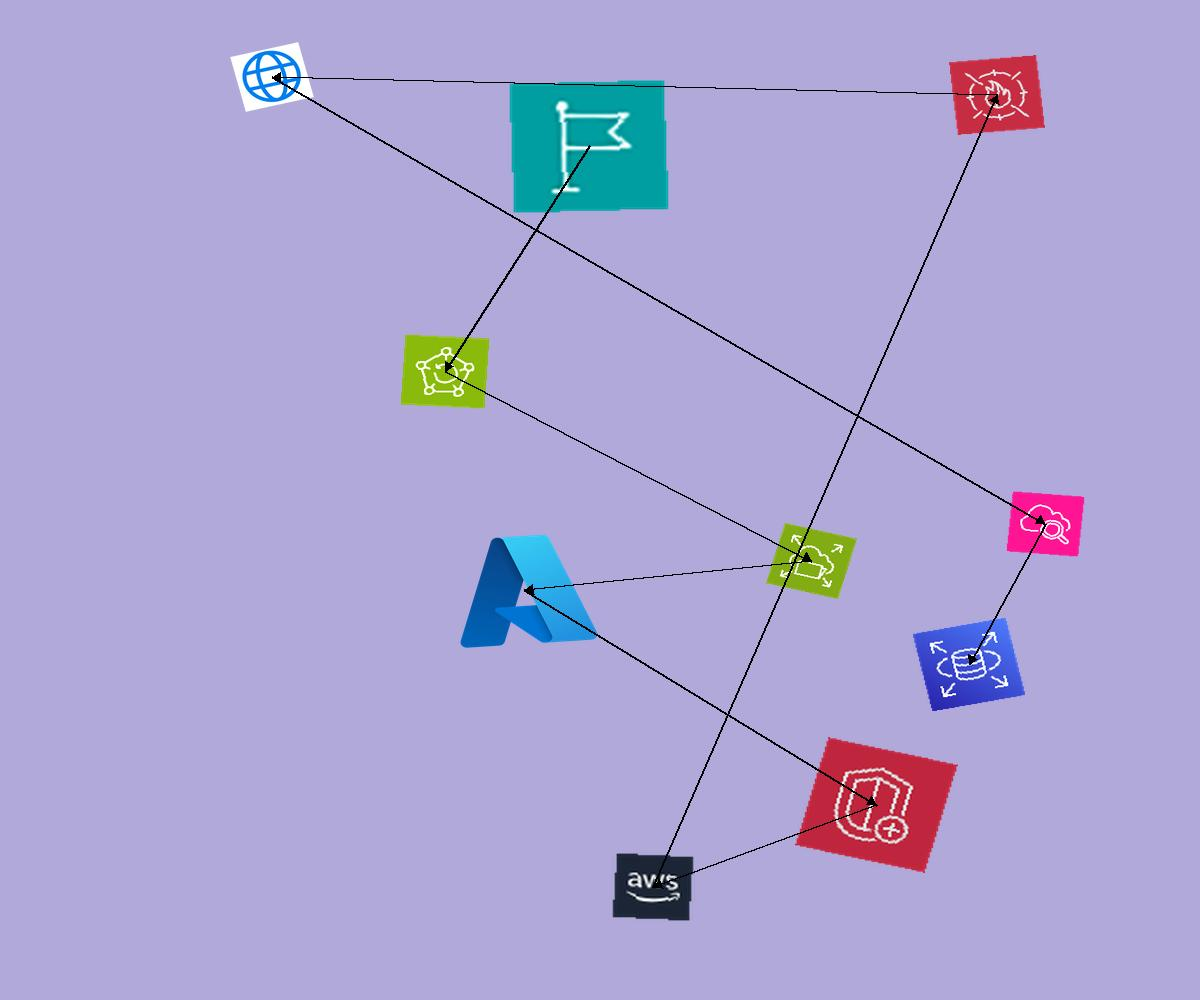AWS-Backup: (400, 334, 490, 409)
AWS-Cloud-logo: (611, 852, 695, 922)
AWS-CloudWatch: (1006, 491, 1085, 557)
AWS-EFS: (766, 523, 857, 599)
AWS-RDS: (912, 617, 1026, 712)
AWS-Region: (508, 79, 670, 214)
AWS-Shield: (795, 737, 958, 873)
AWS-WAF: (949, 55, 1045, 135)
Azure_http: (230, 42, 314, 112)
Azure_services: (444, 523, 605, 657)
